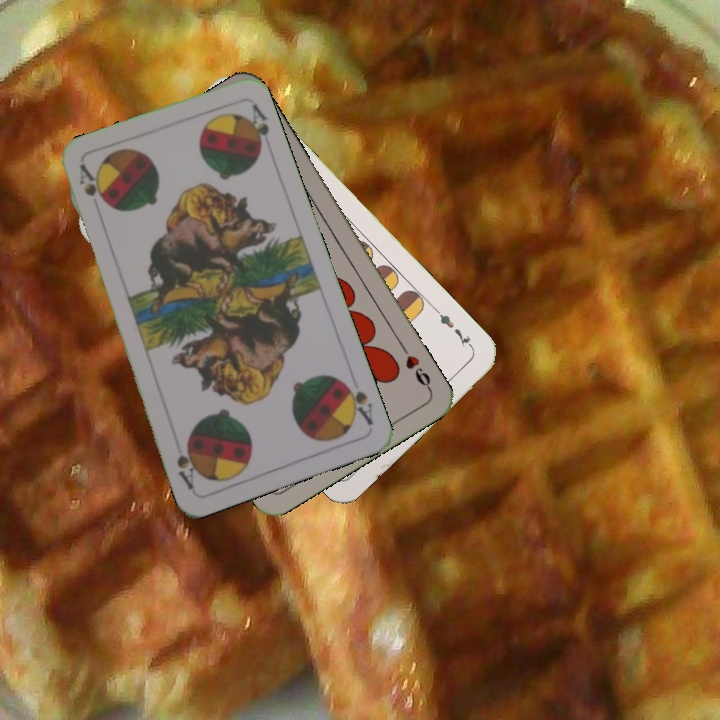E7: (431, 305, 477, 352)
H9: (396, 341, 434, 394)
SA: (337, 376, 376, 428), (75, 160, 99, 199)
